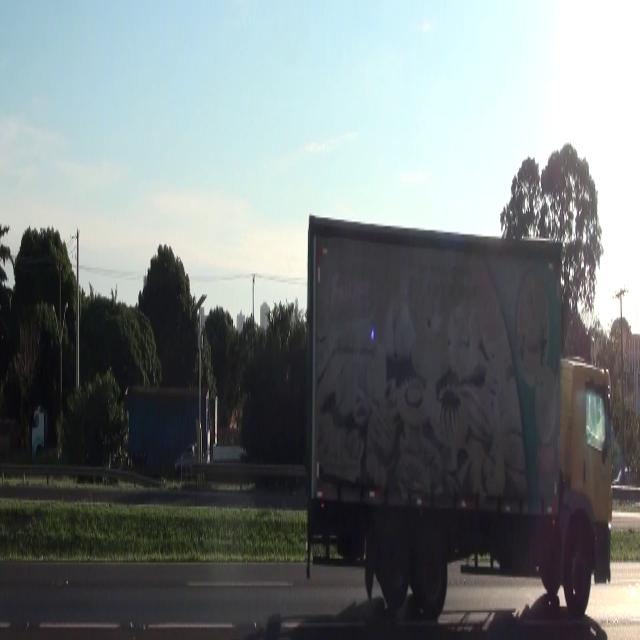-axle: (413, 522, 449, 614), (376, 512, 411, 606), (565, 532, 593, 614)
